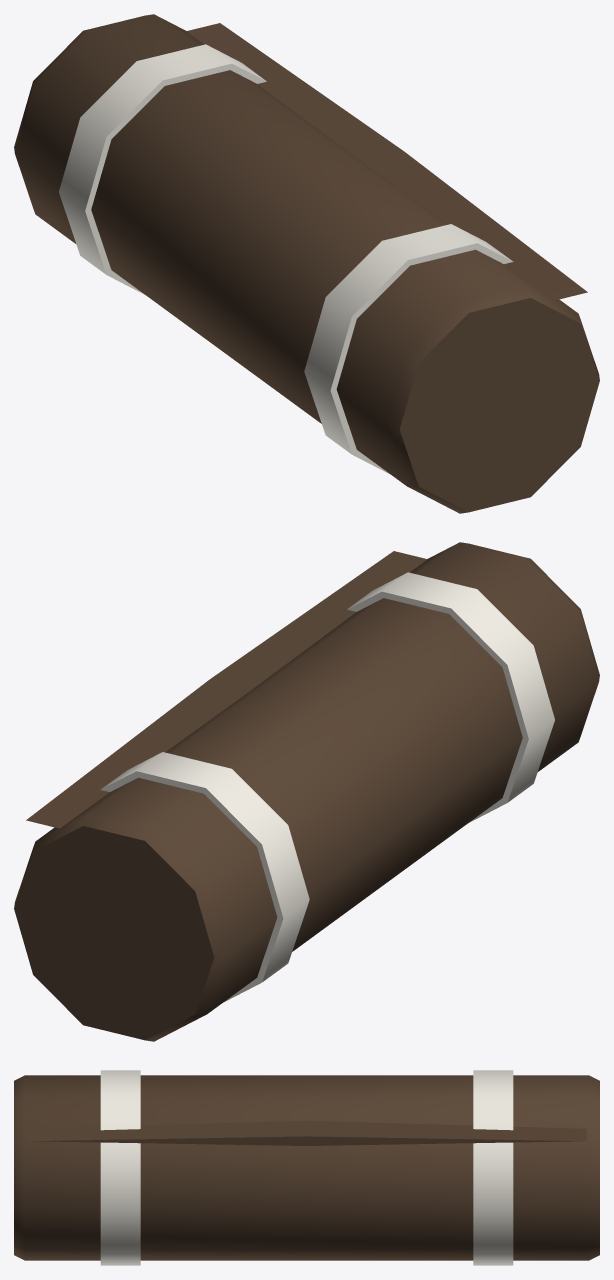
The model's file is tool_roll_lod1.glb.
3 views of the same model, one above another, from view 1: azimuth 30°, elevation 25°; view 2: azimuth 150°, elevation 25°; view 3: azimuth 270°, elevation 25° (orthographic). The views are drawn at different scales.
Parts seen in each view (by area): view 1: tool_roll_lod1; view 2: tool_roll_lod1; view 3: tool_roll_lod1.
Boxes of the visible parts, box(x1,y1,x2,y2) form: tool_roll_lod1: box(14, 14, 599, 513); tool_roll_lod1: box(14, 542, 599, 1041); tool_roll_lod1: box(14, 1070, 599, 1265).
Bounding box in the file's own units: 0.074 × 0.0704 × 0.22.
